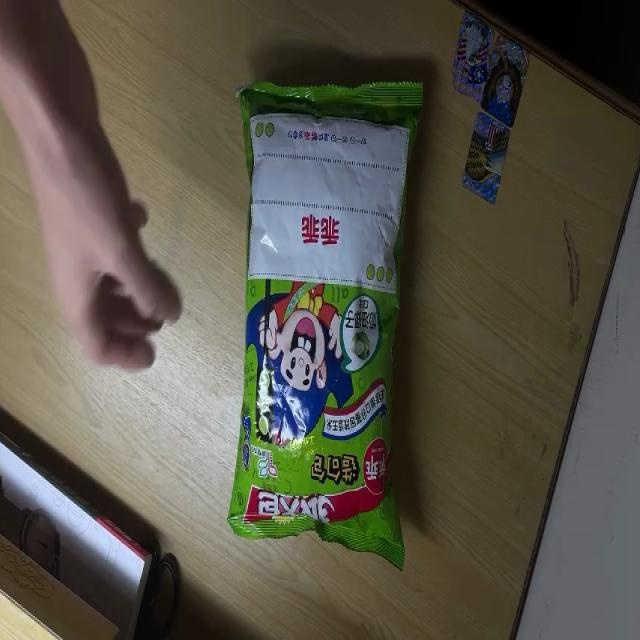Good-Luck: (226, 79, 430, 570)
